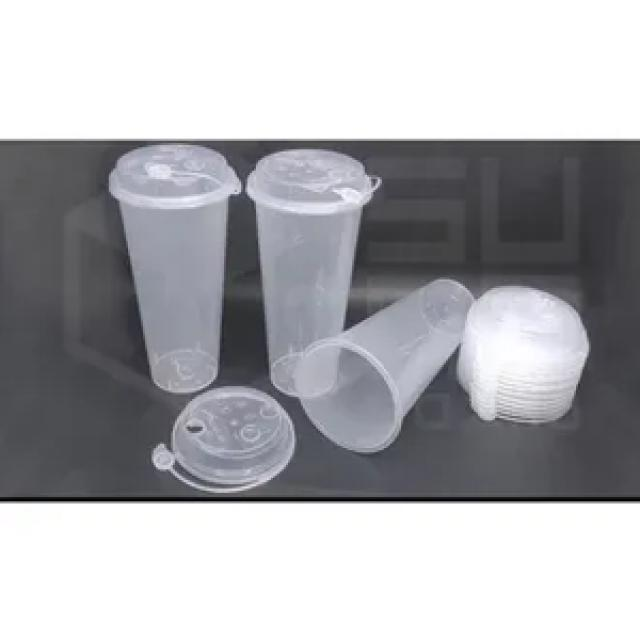plastic cup: (243, 140, 384, 410), (105, 141, 248, 401), (290, 273, 478, 459)
